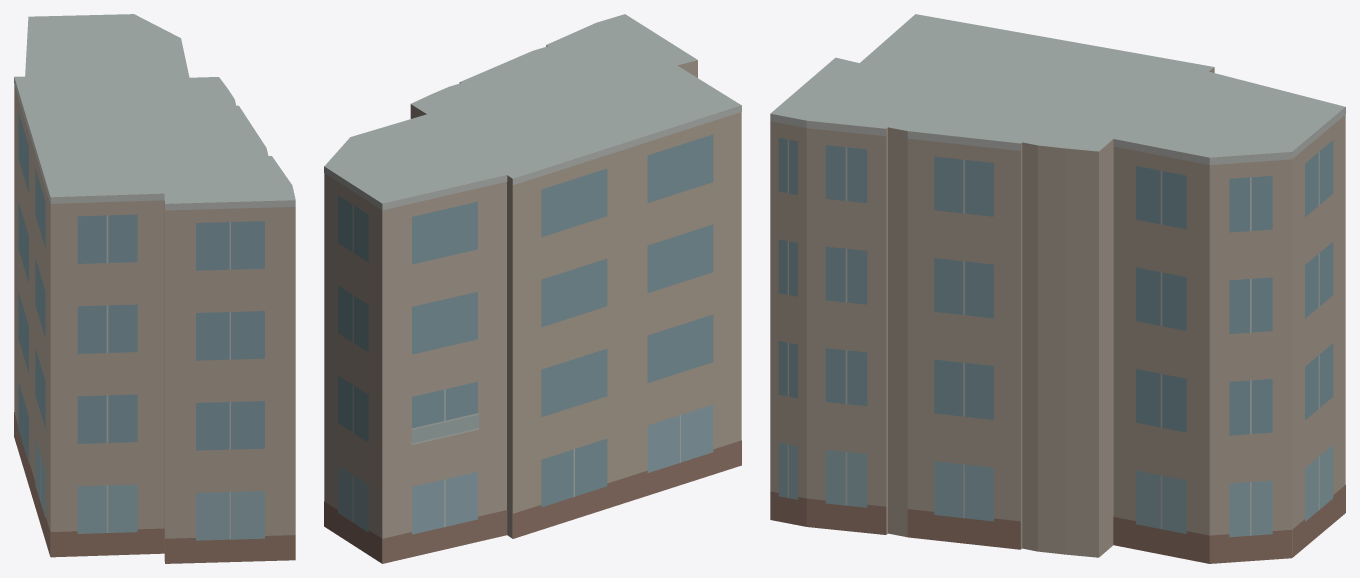
The model's file is survey-upis-32464443.glb.
3 views of the same model, side by side, from view 1: azimuth 30°, elevation 25°; view 2: azimuth 150°, elevation 25°; view 3: azimuth 270°, elevation 25° (orthographic). The views are drawn at different scales.
Visible parts, largest first — view 1: survey-upis-32464443.tmp; view 2: survey-upis-32464443.tmp; view 3: survey-upis-32464443.tmp.
Part boxes in pixels (left/top/right/bottom): survey-upis-32464443.tmp: left=14, top=14, right=295, bottom=563; survey-upis-32464443.tmp: left=324, top=14, right=741, bottom=563; survey-upis-32464443.tmp: left=770, top=14, right=1345, bottom=563.
Size of the model in its own units: 10.1 by 13.3 by 17.09.
